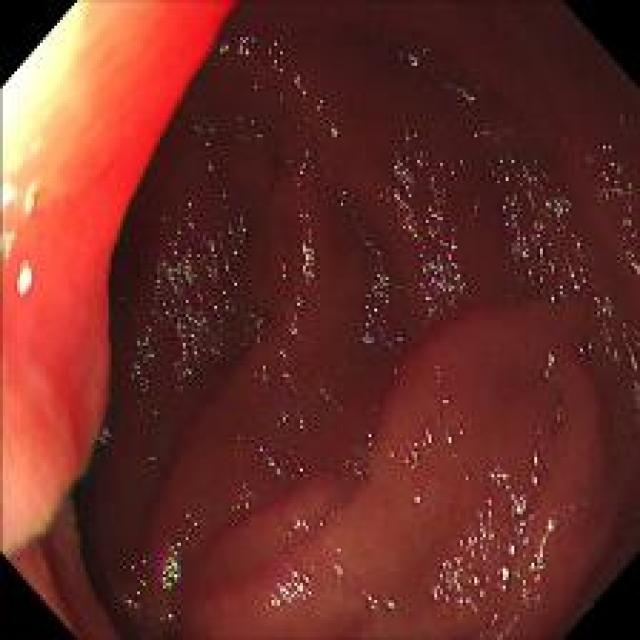color misalignment: (150, 198, 248, 376), (446, 475, 551, 631), (391, 150, 458, 312), (499, 156, 574, 288), (598, 150, 635, 282), (359, 252, 406, 355), (588, 298, 635, 401), (289, 72, 330, 122), (191, 114, 266, 140), (218, 36, 284, 65), (252, 442, 302, 478), (346, 426, 378, 481), (266, 569, 314, 605), (385, 430, 432, 466), (295, 209, 316, 289), (162, 516, 184, 592), (278, 365, 305, 426), (130, 326, 152, 400), (125, 552, 151, 612), (444, 72, 485, 105), (276, 514, 321, 541), (290, 146, 321, 182), (284, 296, 302, 354), (400, 42, 429, 72), (318, 384, 342, 416), (362, 592, 399, 608), (442, 429, 475, 440), (541, 348, 552, 378), (98, 422, 109, 445), (161, 608, 179, 622), (408, 488, 422, 501)
contrast: (50, 59, 334, 602)
saturation: (1, 40, 75, 229)
specularity: (151, 182, 254, 380), (442, 475, 552, 622), (384, 146, 468, 302), (495, 155, 585, 294), (582, 286, 640, 409), (596, 152, 638, 281), (368, 425, 468, 478), (278, 68, 349, 141), (160, 508, 201, 618), (361, 258, 404, 356), (261, 361, 309, 439), (125, 324, 162, 418), (259, 561, 321, 616), (290, 205, 320, 286), (230, 36, 292, 75), (119, 548, 152, 618), (249, 438, 306, 478), (278, 290, 306, 370), (275, 510, 330, 545), (8, 256, 42, 308), (284, 145, 326, 186), (224, 110, 270, 145), (355, 590, 405, 620), (396, 35, 434, 72), (311, 374, 344, 416), (442, 72, 481, 105), (16, 176, 42, 219), (346, 426, 366, 480), (188, 112, 220, 145), (94, 418, 115, 449), (532, 345, 554, 374)
